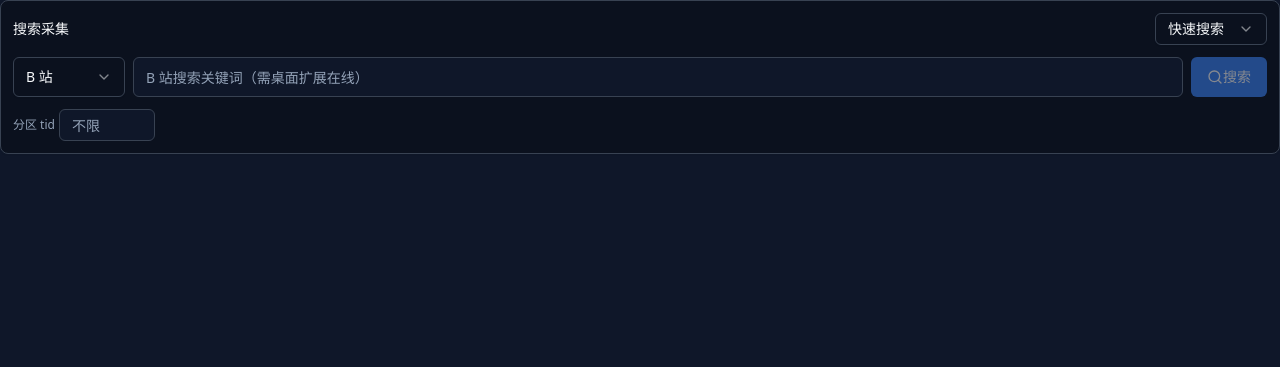
it: 批量采集：勾选两条 → POST /api/collect-tasks/batch 带 vids+source，三段提示文案，勾选清空
In the field with placeholder "B 站搜索关键词（需桌面扩展在线）": (658, 77) [133,57,1183,97], type "加息"
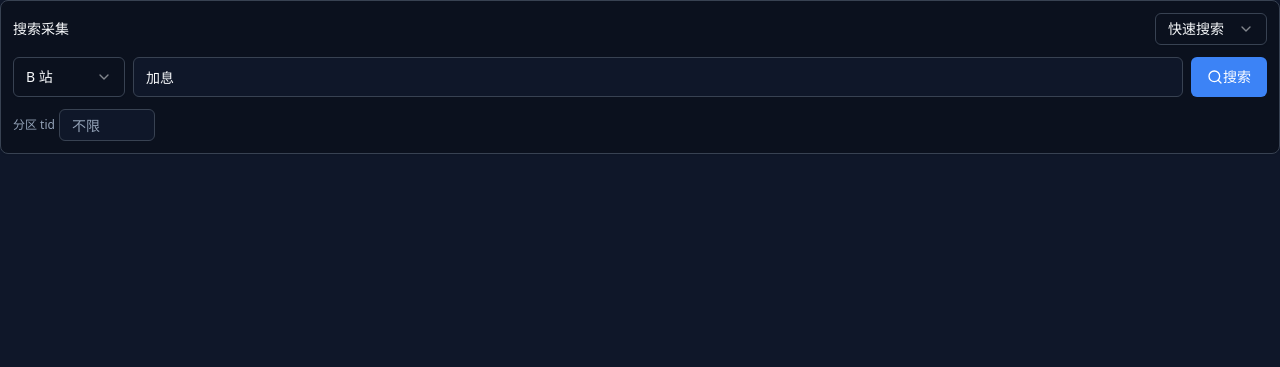
Click the button "搜索": (1229, 77) [1191,57,1267,97]
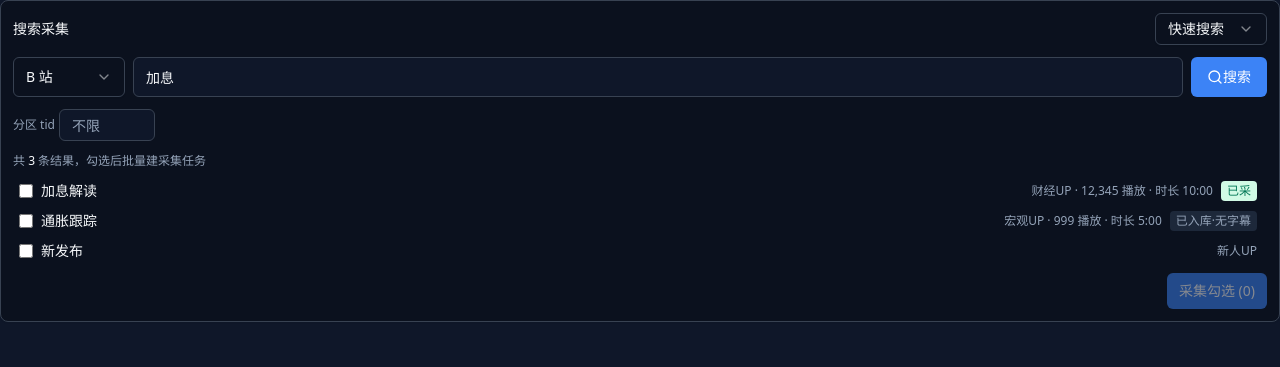
Expected: the text "加息解读" is shown, [41,181,97,200]
Click the checkbox named "选择 加息解读": (26, 191) [19,184,33,198]
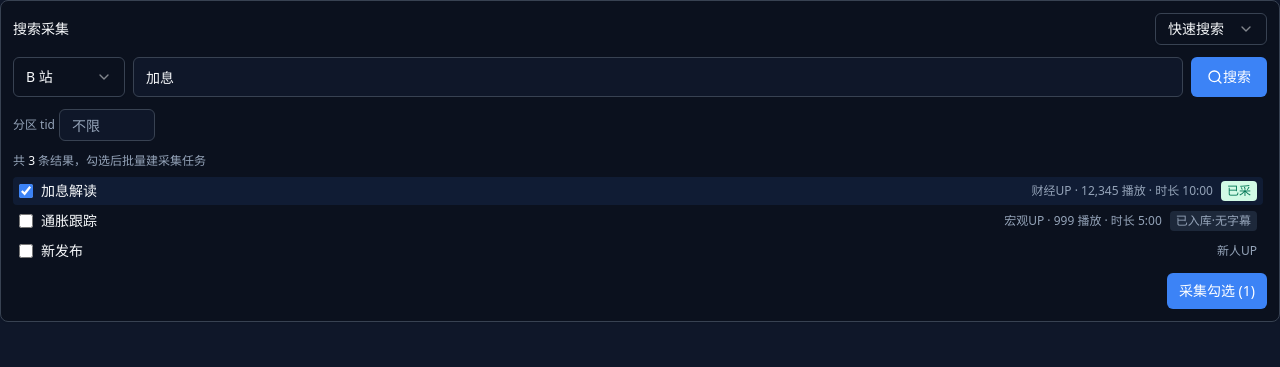
Click the checkbox named "选择 通胀跟踪": (26, 221) [19,214,33,228]
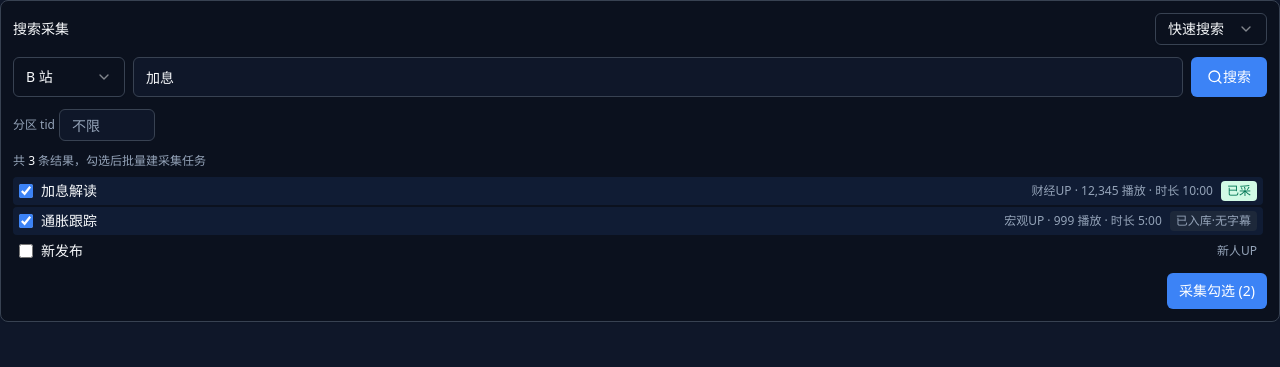
Click the button "采集勾选 (2)": (1217, 291) [1167,273,1267,309]
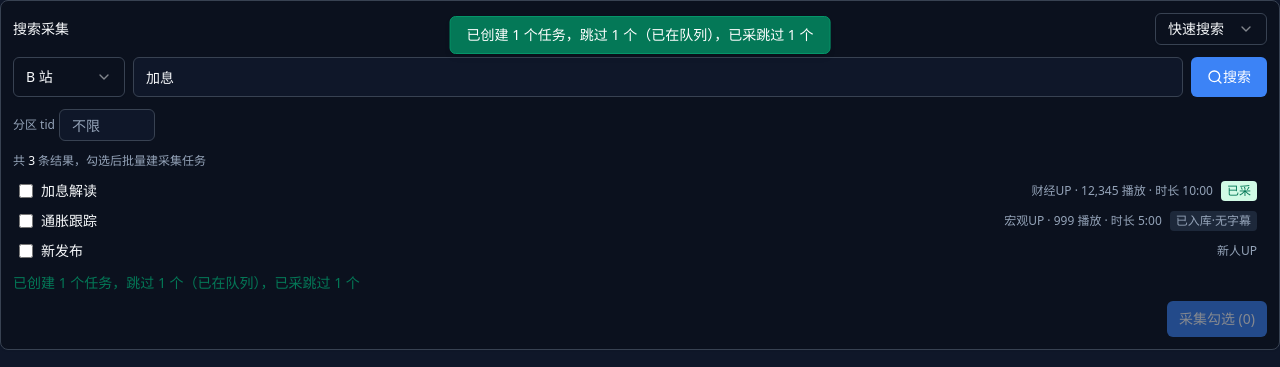
Expected: the message reads "已创建 1 个任务，跳过 1 个（已在队列），已采跳过 1 个", [13,273,360,292]
Expected: the button "采集勾选 (0)" is disabled, [1167,301,1267,337]
